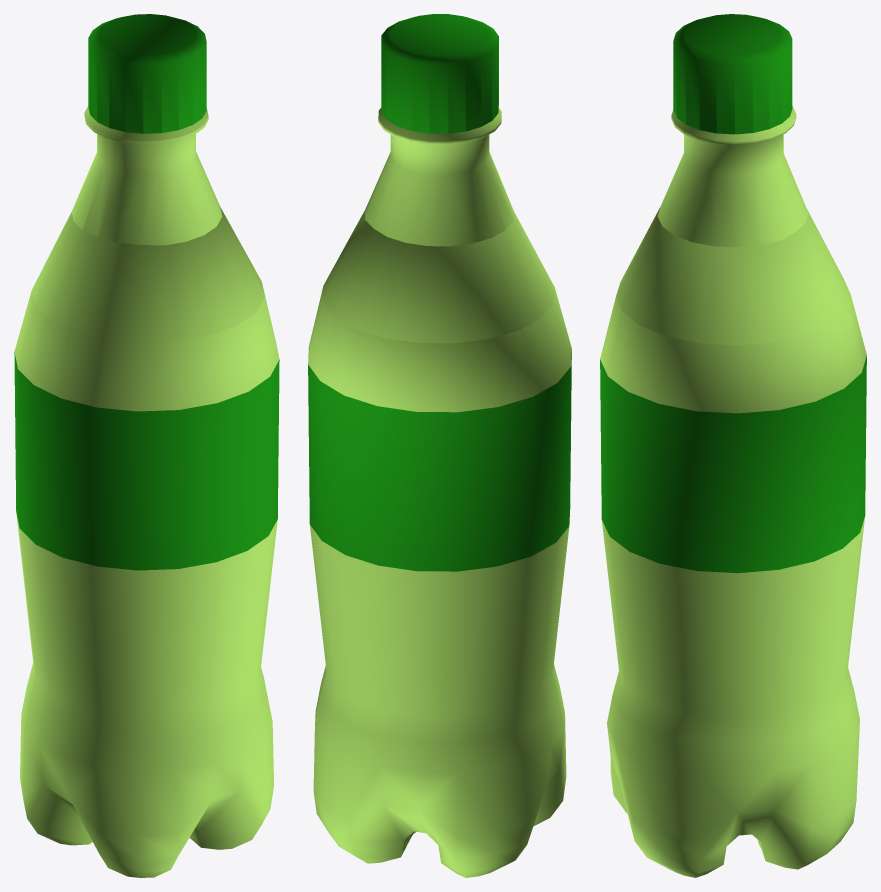
The model's file is Lemon Soda.fbx.
The picture shows the model from 3 angles, left to right: view 1: azimuth 30°, elevation 25°; view 2: azimuth 150°, elevation 25°; view 3: azimuth 270°, elevation 25°; orthographic projection.
Visible parts, largest first — view 1: Node 0; view 2: Node 0; view 3: Node 0.
Boxes of the visible parts, bbox=[...] form: Node 0: bbox=[14, 14, 279, 877]; Node 0: bbox=[308, 14, 571, 877]; Node 0: bbox=[600, 14, 866, 877].
Bounding box in the file's own units: 0.0702 × 0.235 × 0.0702.
